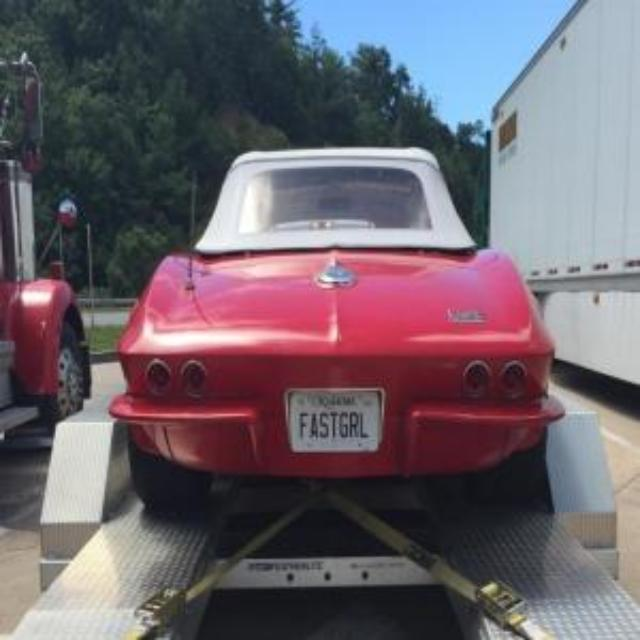License Plate: (290, 387, 386, 455)
